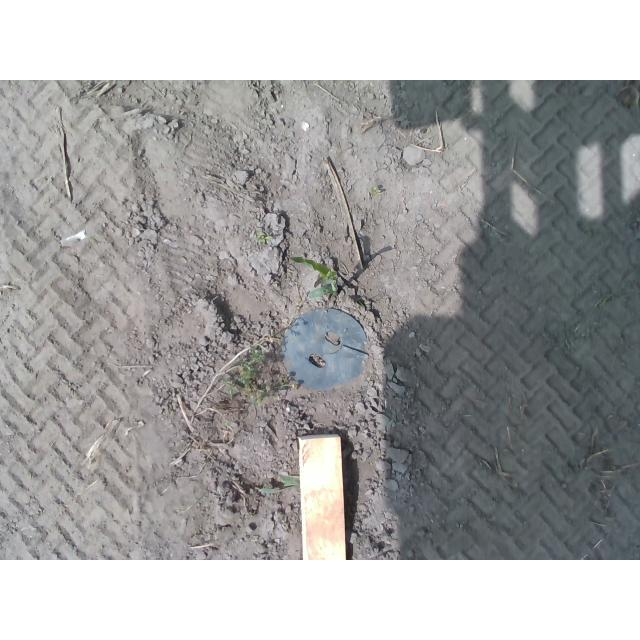Maize: (287, 252, 341, 300)
Weeds: (223, 331, 290, 408), (258, 472, 298, 492), (255, 231, 271, 246), (369, 186, 383, 196), (223, 421, 231, 427)
